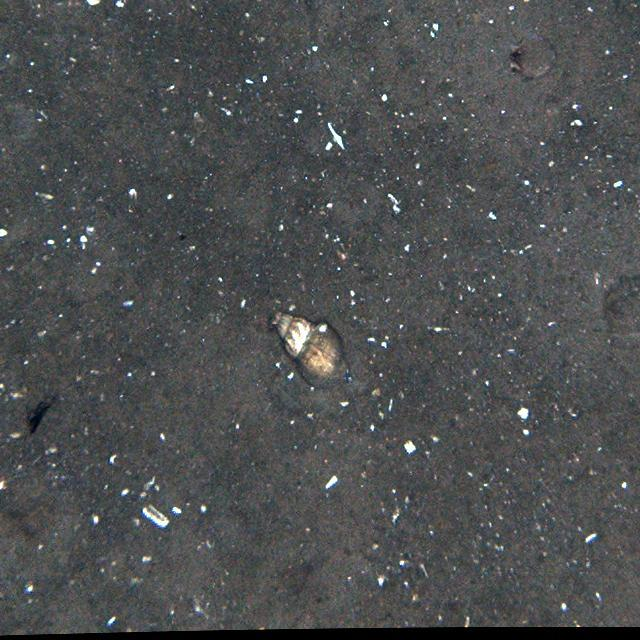whelk: (266, 306, 354, 393)
